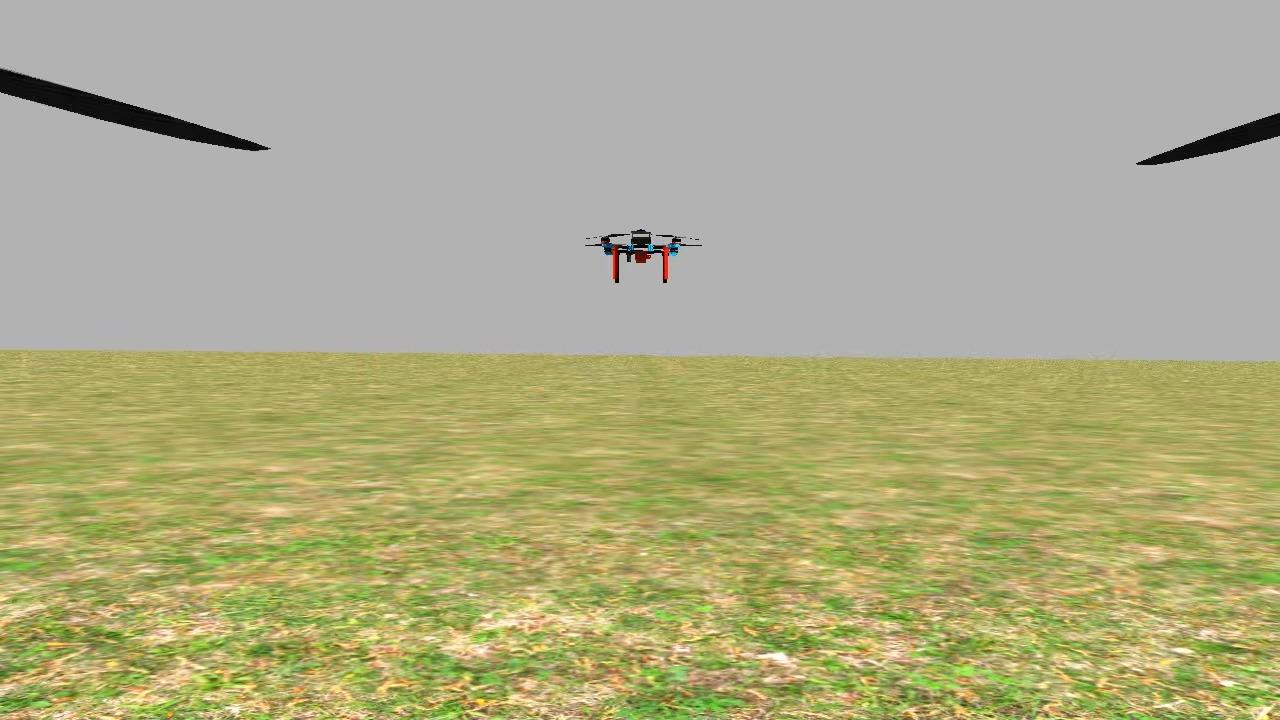UAV: (596, 227, 689, 296)
